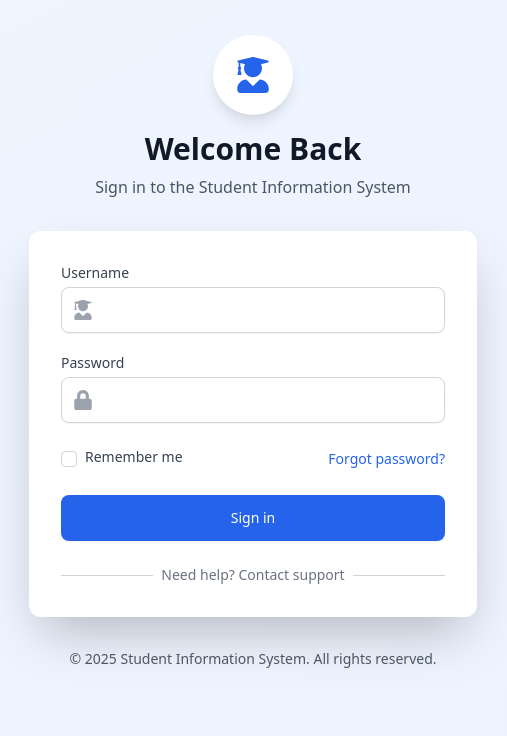
LoginPage › displays security related error text: Account locked due to too many attempts
Type "student" into the field labelled "Username" at (253, 310), box [61,287,445,333]
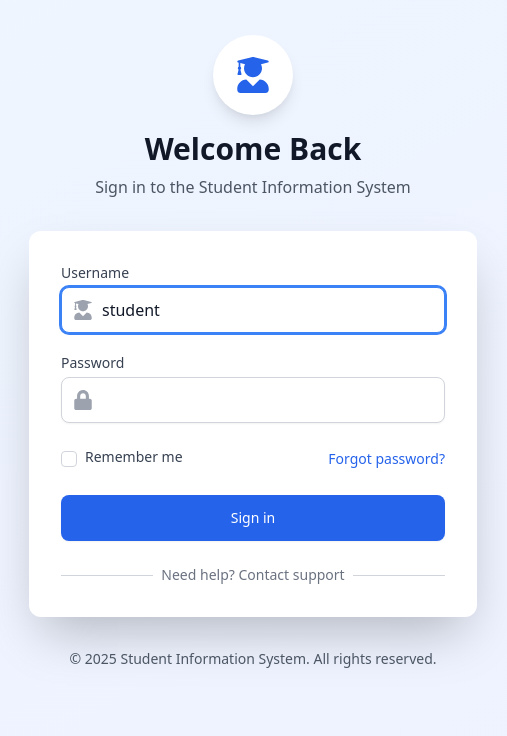
Type "password" into the password field labelled "Password" at (253, 400), box [61,377,445,423]
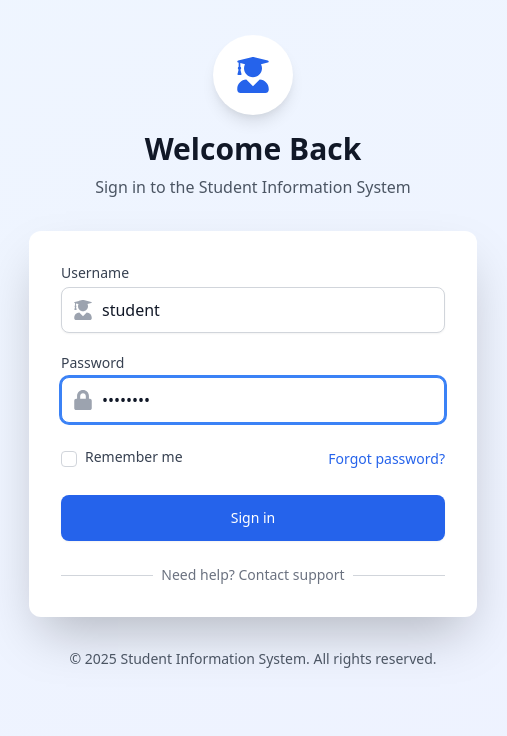
Click the button "Sign in" at (253, 518), box [61,495,445,541]
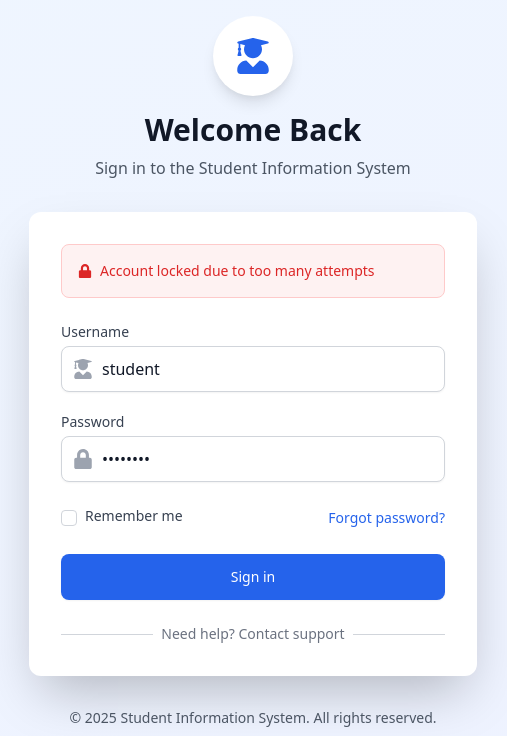
Check: the text "Account locked due to too many attempts" is shown, box [78,261,375,280]
